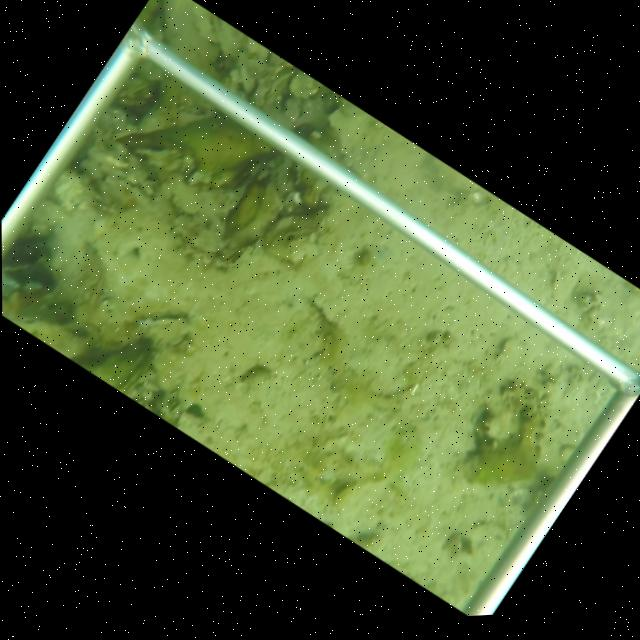Oyster-Open: (253, 59, 295, 109)
